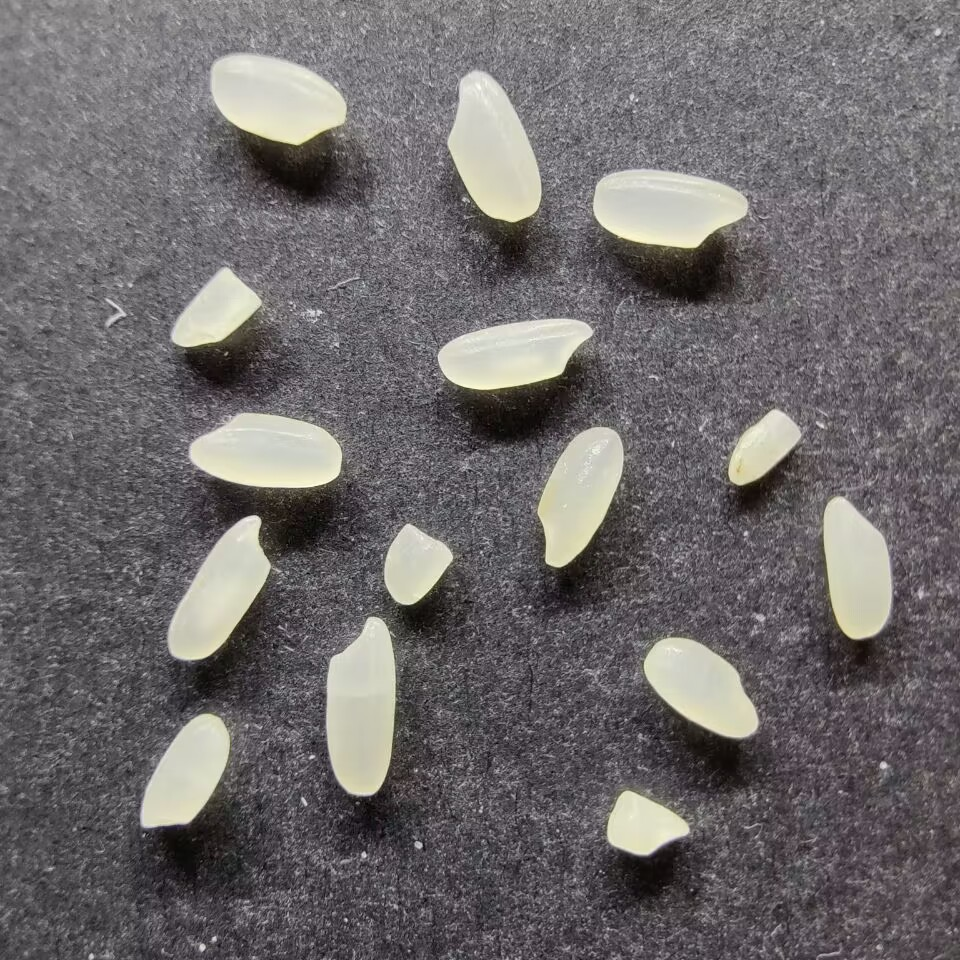broken: (168, 266, 263, 348), (382, 522, 453, 606), (727, 408, 802, 486), (605, 788, 691, 856)
rice: (166, 514, 271, 661), (445, 69, 542, 223), (323, 616, 396, 797), (209, 53, 347, 146), (591, 168, 749, 248), (534, 426, 623, 568), (642, 637, 760, 739), (187, 412, 342, 489), (436, 317, 595, 390), (139, 712, 229, 828), (821, 495, 892, 640)
